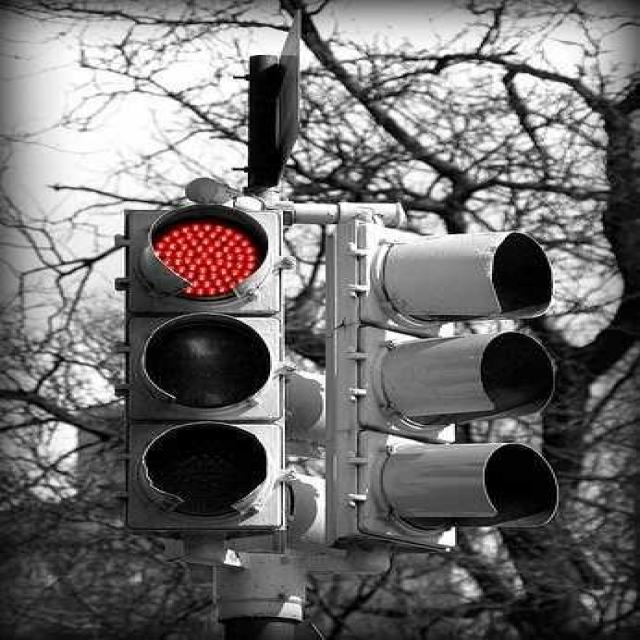Traffic Light -Red-: (128, 184, 272, 631)
